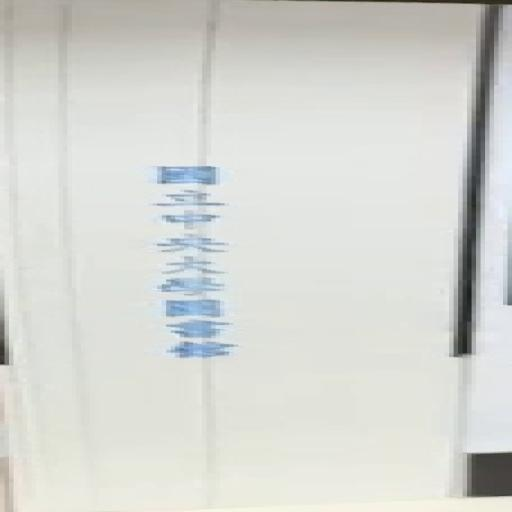backward: (3, 1, 512, 512)
